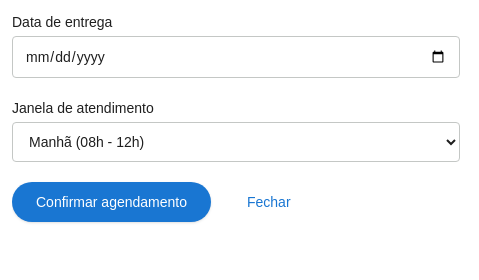
Test: SchedulingForm › confirma o agendamento via saga e mostra sucesso
The image size is (479, 280).
Step 1. Type "2026-08-01" into the date field labelled "Data de entrega" → (236, 57), box [12, 36, 460, 78]
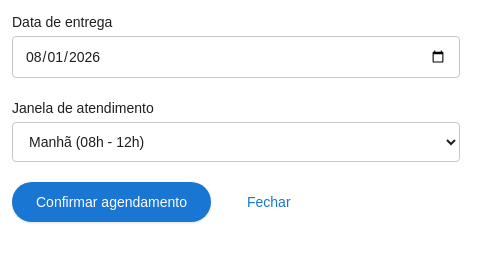
Step 2. Select "Tarde (12h - 18h)" in the dropdown labelled "Janela de atendimento" → (236, 142), box [12, 122, 460, 162]
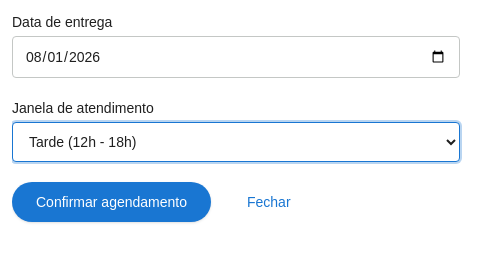
Step 3. Click the button "Confirmar agendamento" → click(112, 202), box [12, 182, 211, 222]
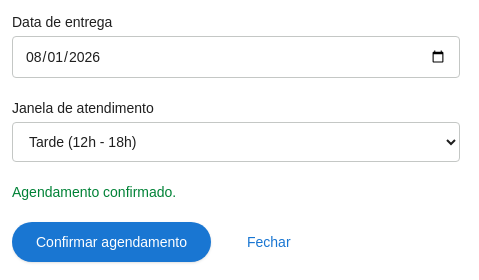
Now the text "Agendamento confirmado." is shown, box [12, 184, 176, 200]
